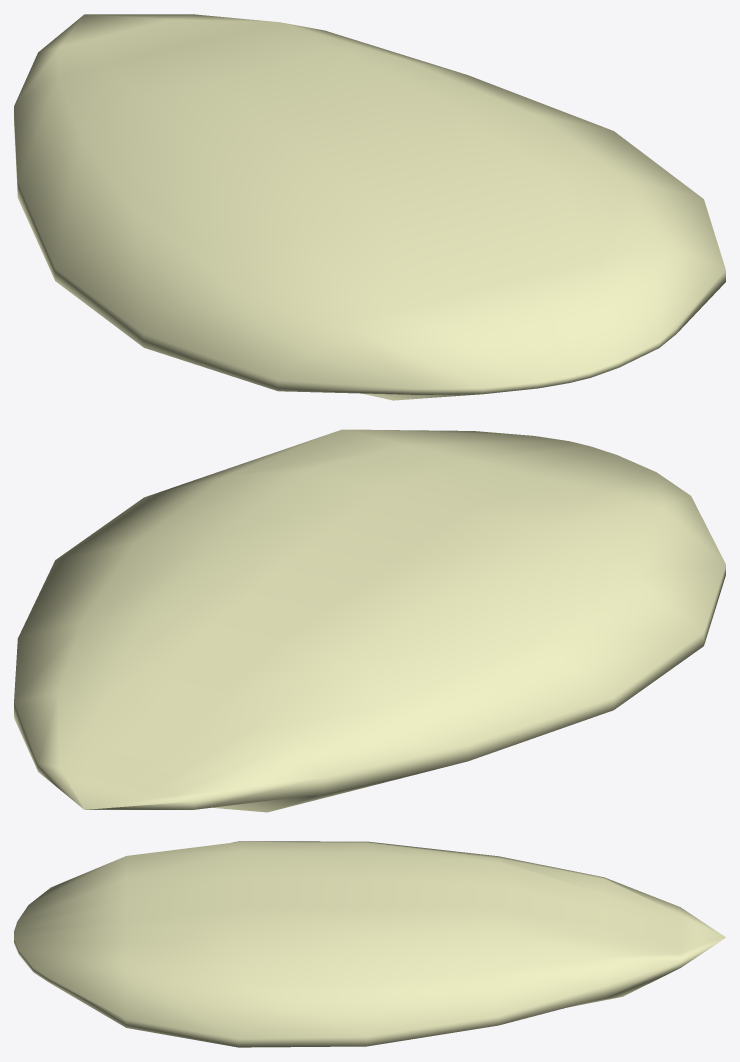
Rendered from 南瓜種子.FBX.
The picture shows the model from 3 angles, top to bottom: view 1: azimuth 30°, elevation 25°; view 2: azimuth 150°, elevation 25°; view 3: azimuth 270°, elevation 25°; orthographic projection. The views are drawn at different scales.
Parts seen in each view (by area): view 1: Box001; view 2: Box001; view 3: Box001.
Part boxes in pixels (bbox=[...]): Box001: bbox=[14, 14, 725, 400]; Box001: bbox=[14, 429, 725, 812]; Box001: bbox=[14, 841, 725, 1047].
Size of the model in its own units: 3.79 by 0.9093 by 5.81.
